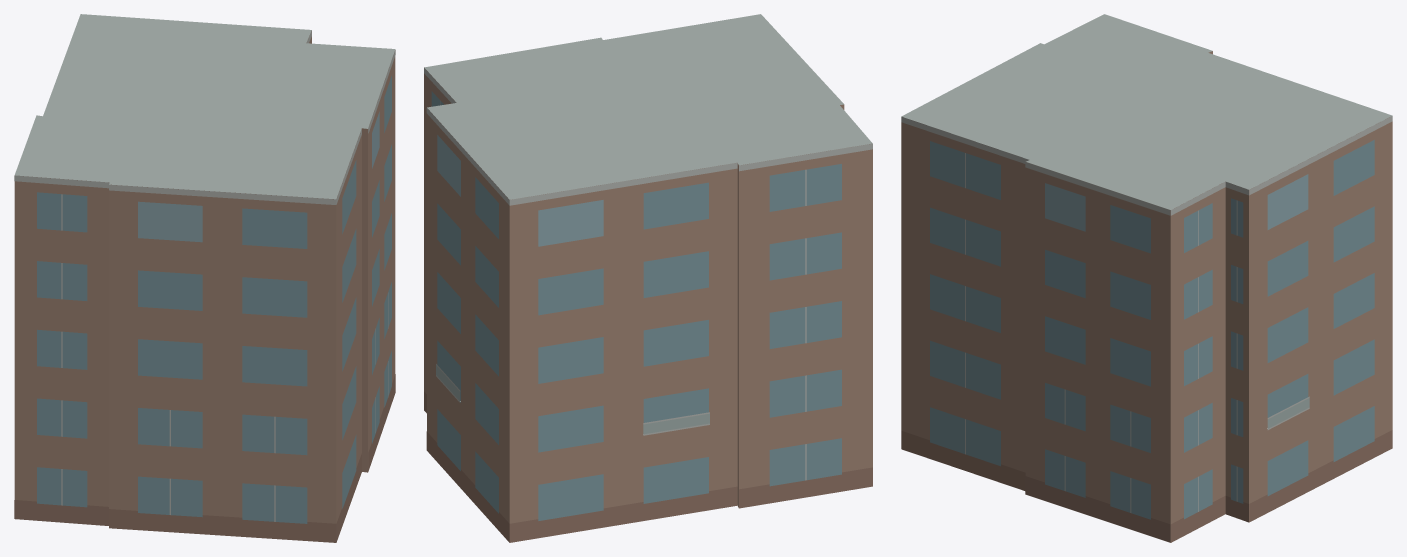
File: survey-upis-32593055.glb
The picture shows the model from 3 angles, left to right: view 1: azimuth 30°, elevation 25°; view 2: azimuth 150°, elevation 25°; view 3: azimuth 270°, elevation 25°; orthographic projection. The views are drawn at different scales.
Visible parts, largest first — view 1: survey-upis-32593055.tmp; view 2: survey-upis-32593055.tmp; view 3: survey-upis-32593055.tmp.
Boxes of the visible parts, x1,y1,x2,y2 form: survey-upis-32593055.tmp: (14,14,395,542); survey-upis-32593055.tmp: (424,14,872,542); survey-upis-32593055.tmp: (901,14,1392,542).
Bounding box in the file's own units: 18.09 × 14.3 × 19.15.
